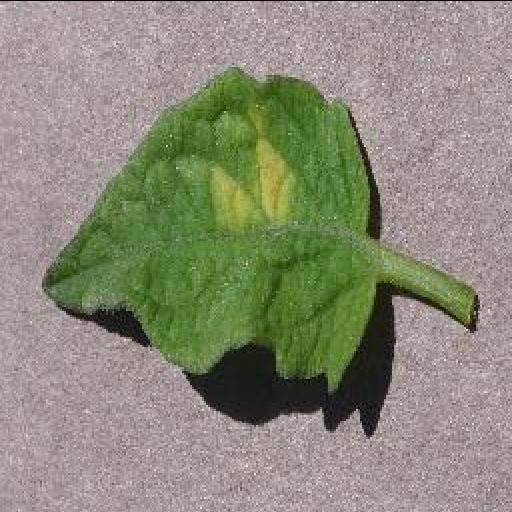disease_tomato: (40, 68, 374, 386)
